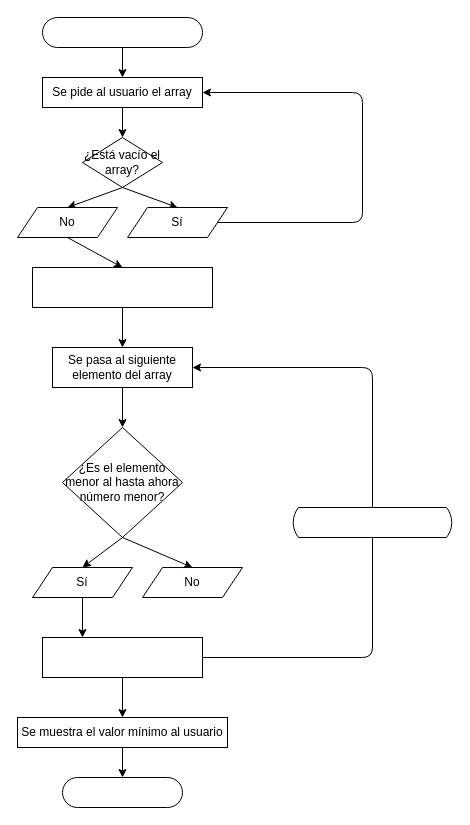
Image size: 470x825. Some labels were removed from this diagram. The box of each missing label's shape, as (x1, y1, x2, y2) in pixels:
Fin del programa: (62, 776, 182, 808)
Inicio: (42, 16, 202, 48)
Reptición: hasta recorrer todo el array: (292, 506, 452, 538)
Se asume que el primer elemento es el menor: (32, 266, 212, 308)
Se sustituye el anterior número menor con el nuevo: (42, 636, 202, 678)
